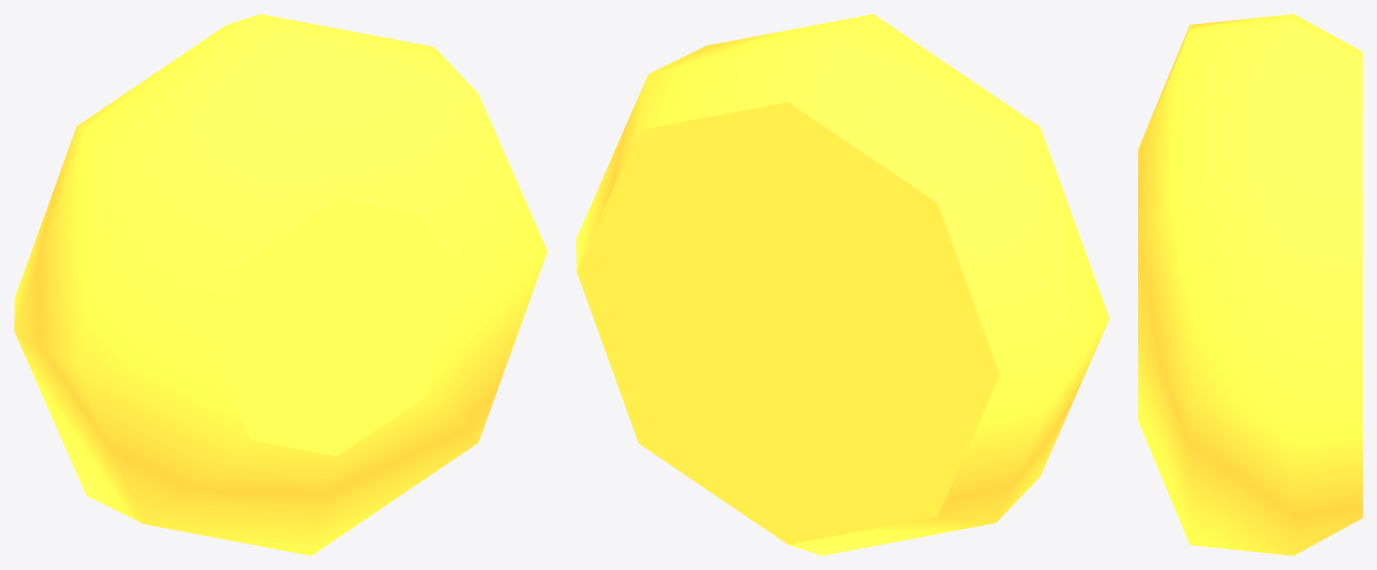
The model's file is SM_Substation_StatusLamp_LOD2.fbx.
3 renders of one model, left to right at view 1: azimuth 30°, elevation 25°; view 2: azimuth 150°, elevation 25°; view 3: azimuth 270°, elevation 25°, orthographic.
Parts seen in each view (by area): view 1: SM_Substation_StatusLamp_LOD2; view 2: SM_Substation_StatusLamp_LOD2; view 3: SM_Substation_StatusLamp_LOD2.
Boxes of the visible parts, box(x1,y1,x2,y2) form: SM_Substation_StatusLamp_LOD2: box(14, 14, 547, 555); SM_Substation_StatusLamp_LOD2: box(576, 14, 1109, 555); SM_Substation_StatusLamp_LOD2: box(1138, 14, 1362, 555).
Bounding box in the file's own units: 0.1 × 0.039 × 0.1.
